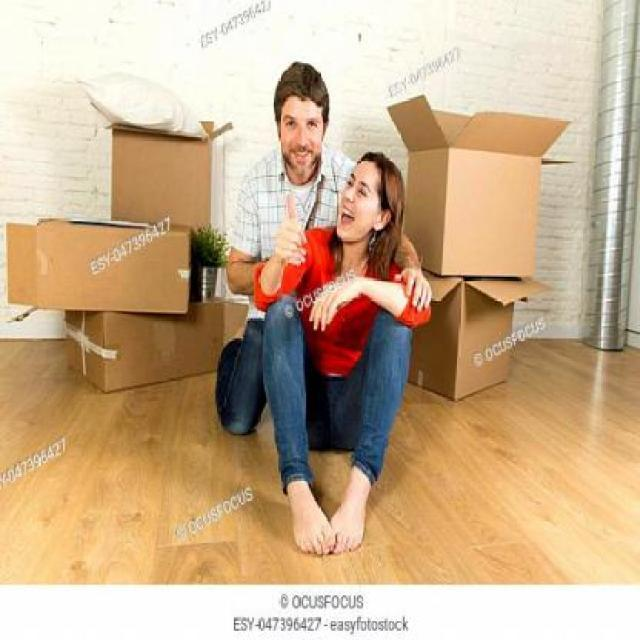box: (390, 99, 564, 280), (0, 218, 194, 320), (403, 270, 549, 399), (104, 124, 235, 250), (55, 294, 238, 384)
